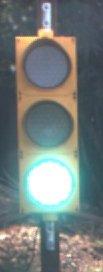Green: (5, 24, 98, 226)
